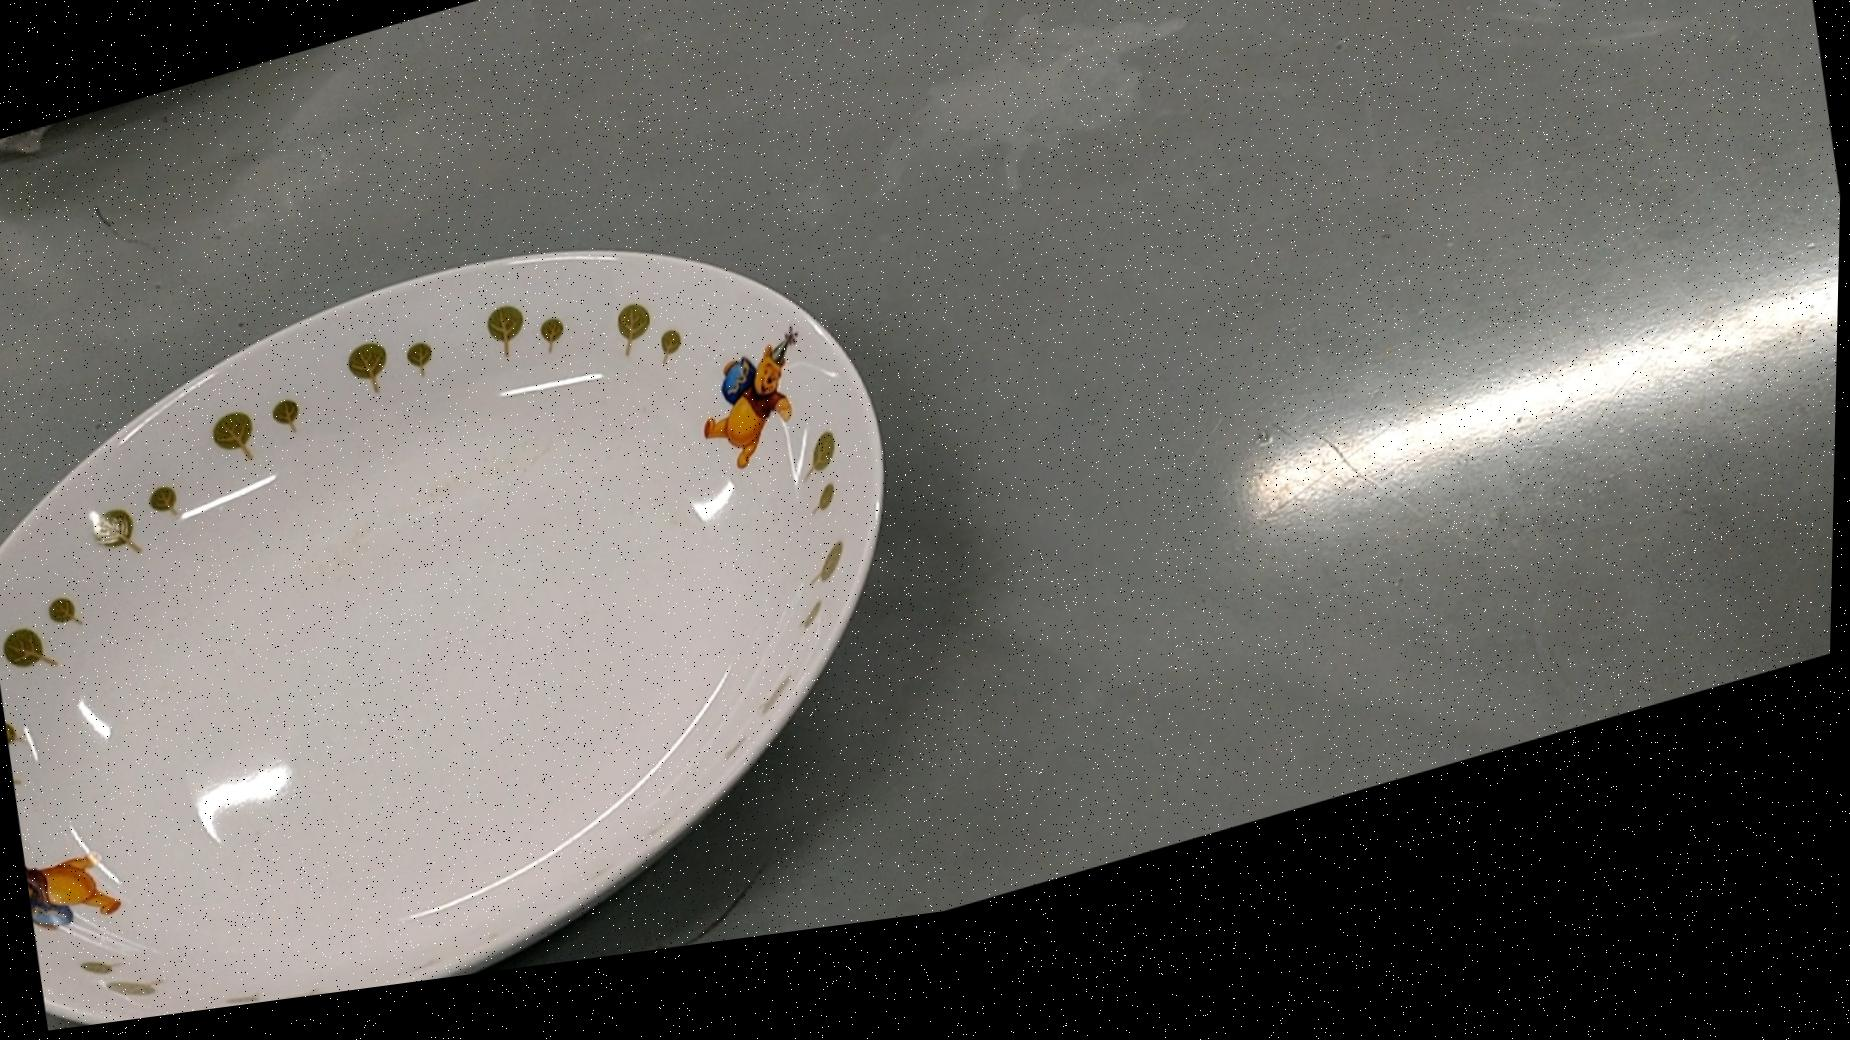plate: (0, 168, 954, 1040)
